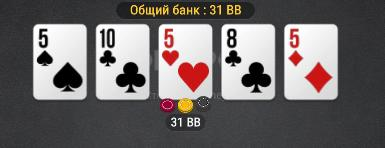10c: (98, 26, 149, 98)
5d: (286, 26, 337, 97)
5h: (161, 26, 211, 98)
5s: (34, 26, 86, 99)
8c: (223, 26, 274, 98)
